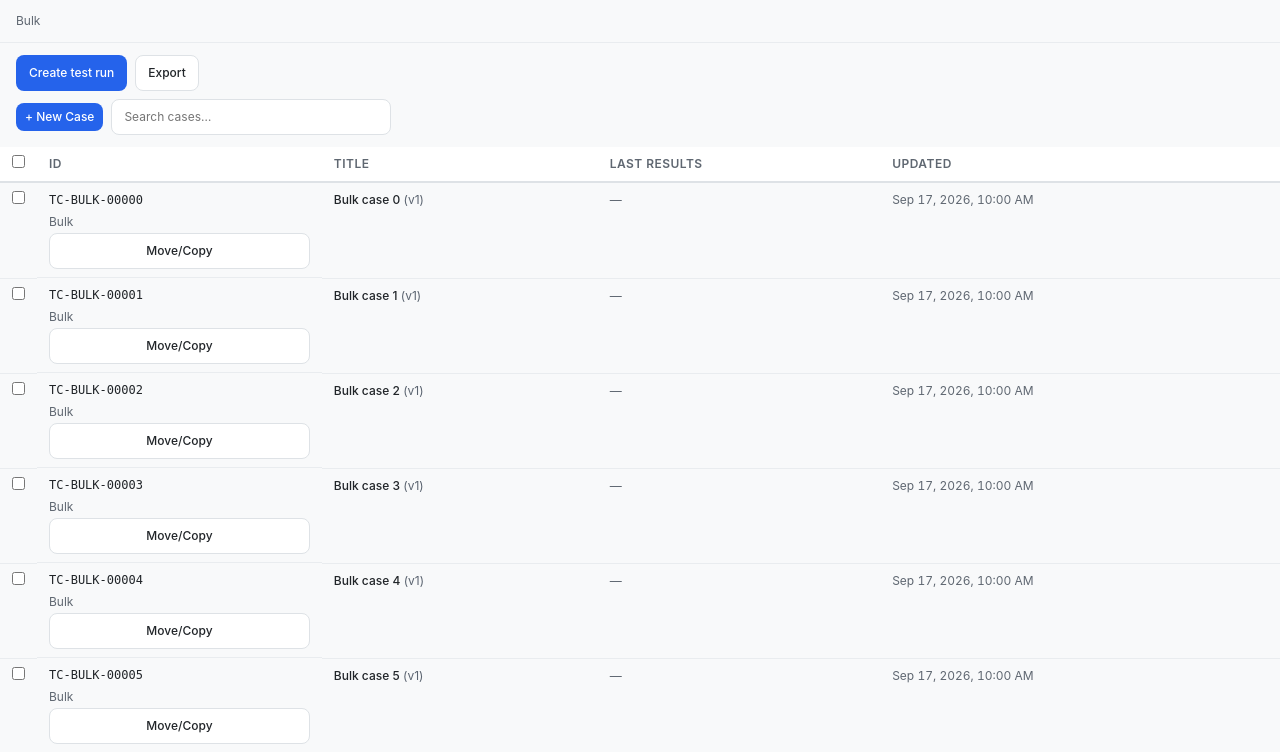
Test: CaseList at scale › windows the DOM and keeps the scroll model intact
Note: The bulk selection and the export operate on the model, not the window.
Click the checkbox named "Select all" at coordinates (18, 162), box [12,155,25,168]
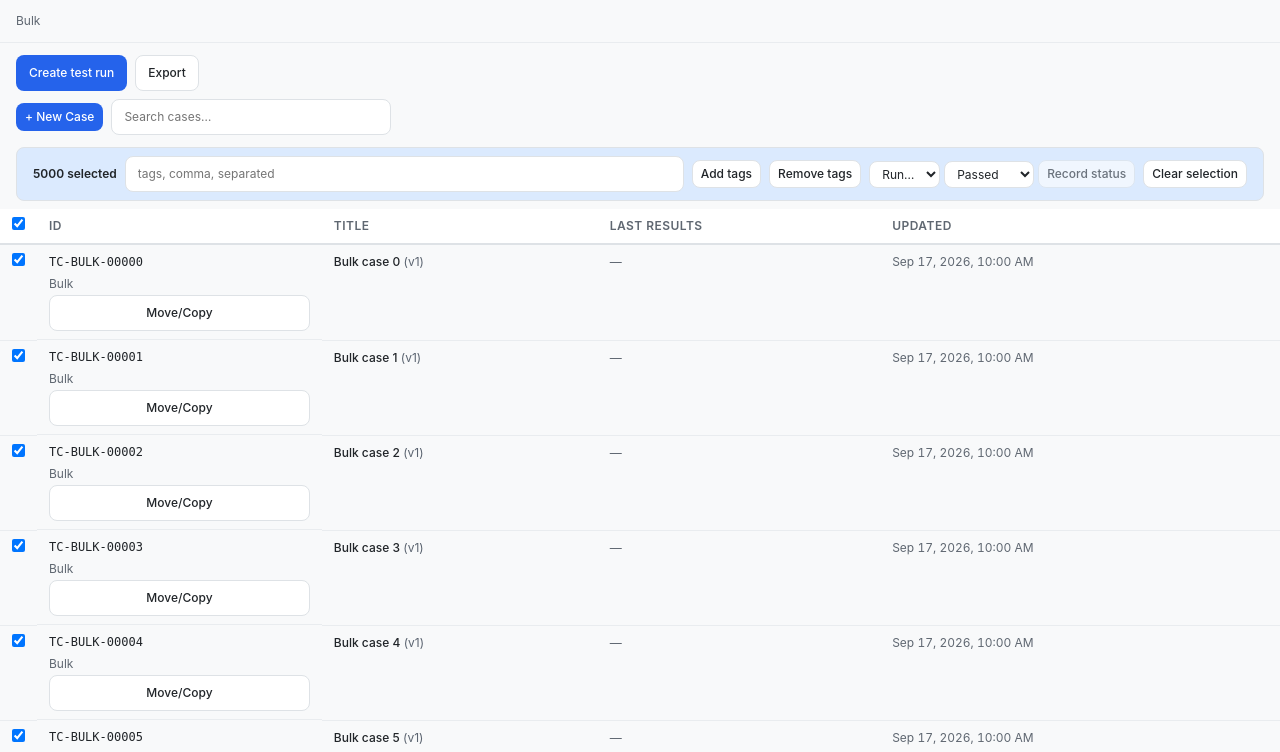
Type "0042" into the search field labelled "Search cases" at coordinates (251, 117), box [111,99,391,135]
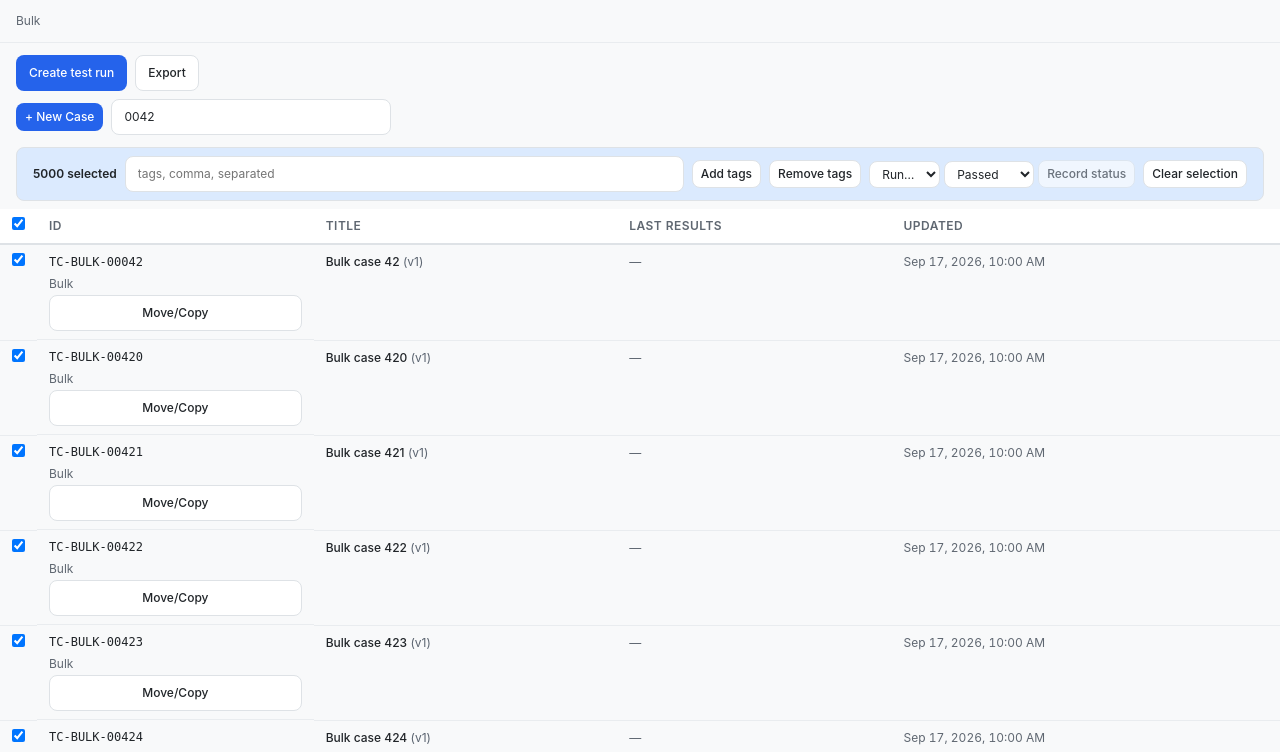
expect the number of rows is 12: met
